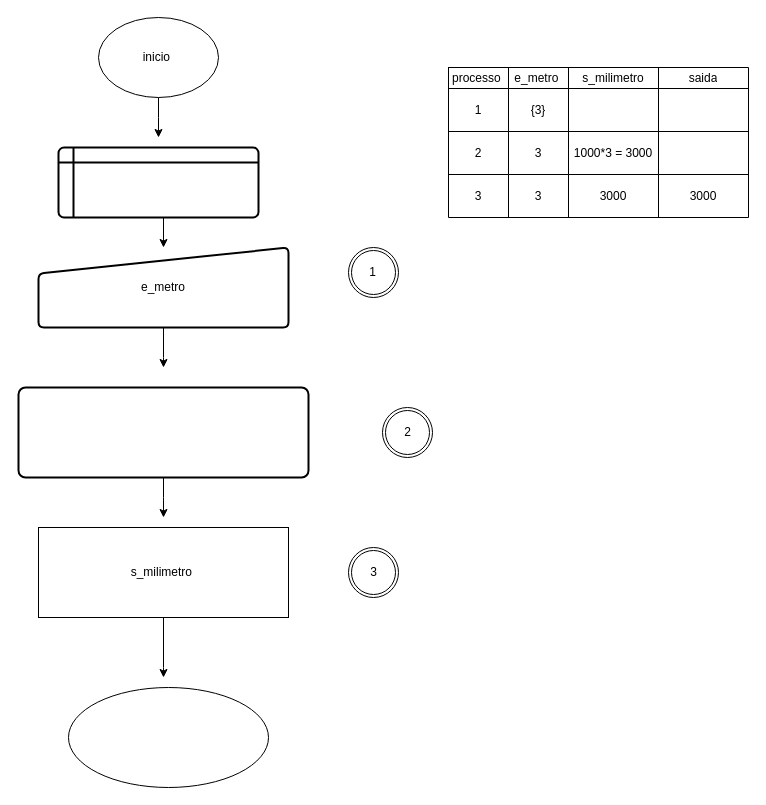
Some shapes in this 766 by 805 pixel diagram are drawn without their labels. The box of each missing label's shape, as (x1, y1, x2, y2) in pixels:
e_metro,s_milimetro: (57, 146, 259, 218)
Fim: (68, 686, 268, 788)
s_milimetro = 1000* metro: (17, 386, 309, 478)
